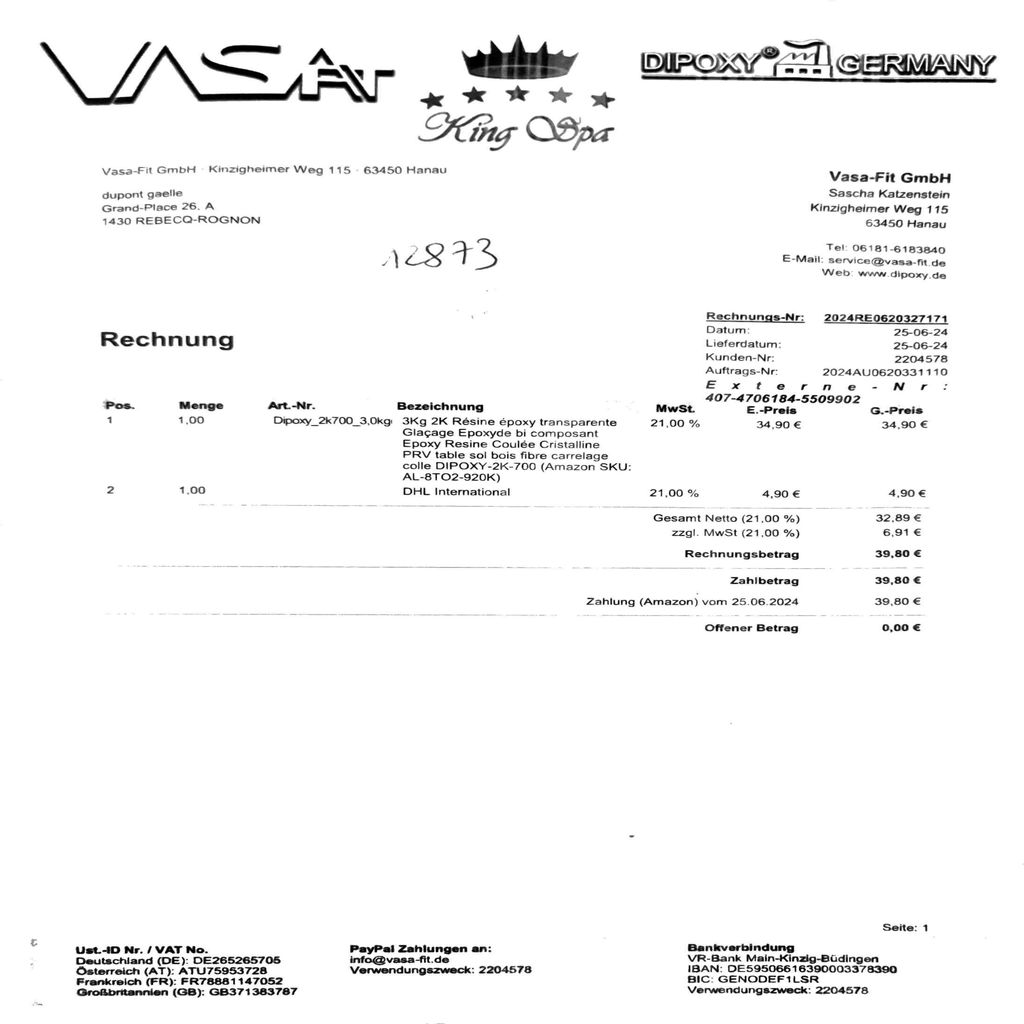recipt: (4, 4, 1020, 1018)
